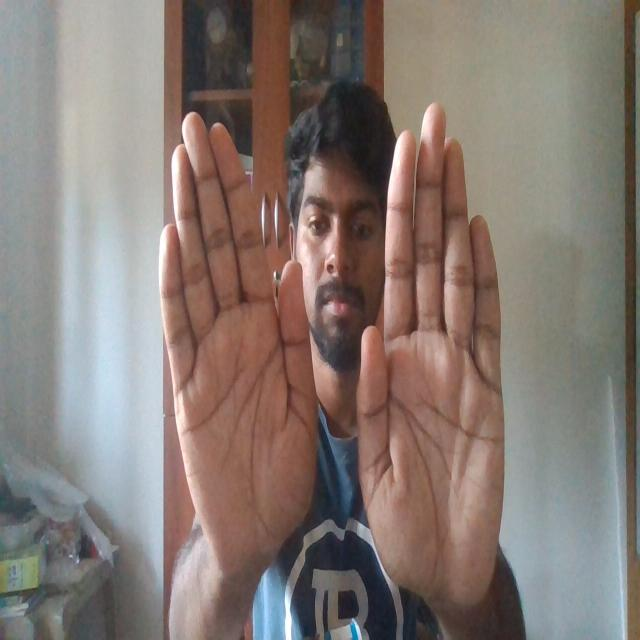ThankYou: (155, 94, 510, 595)
